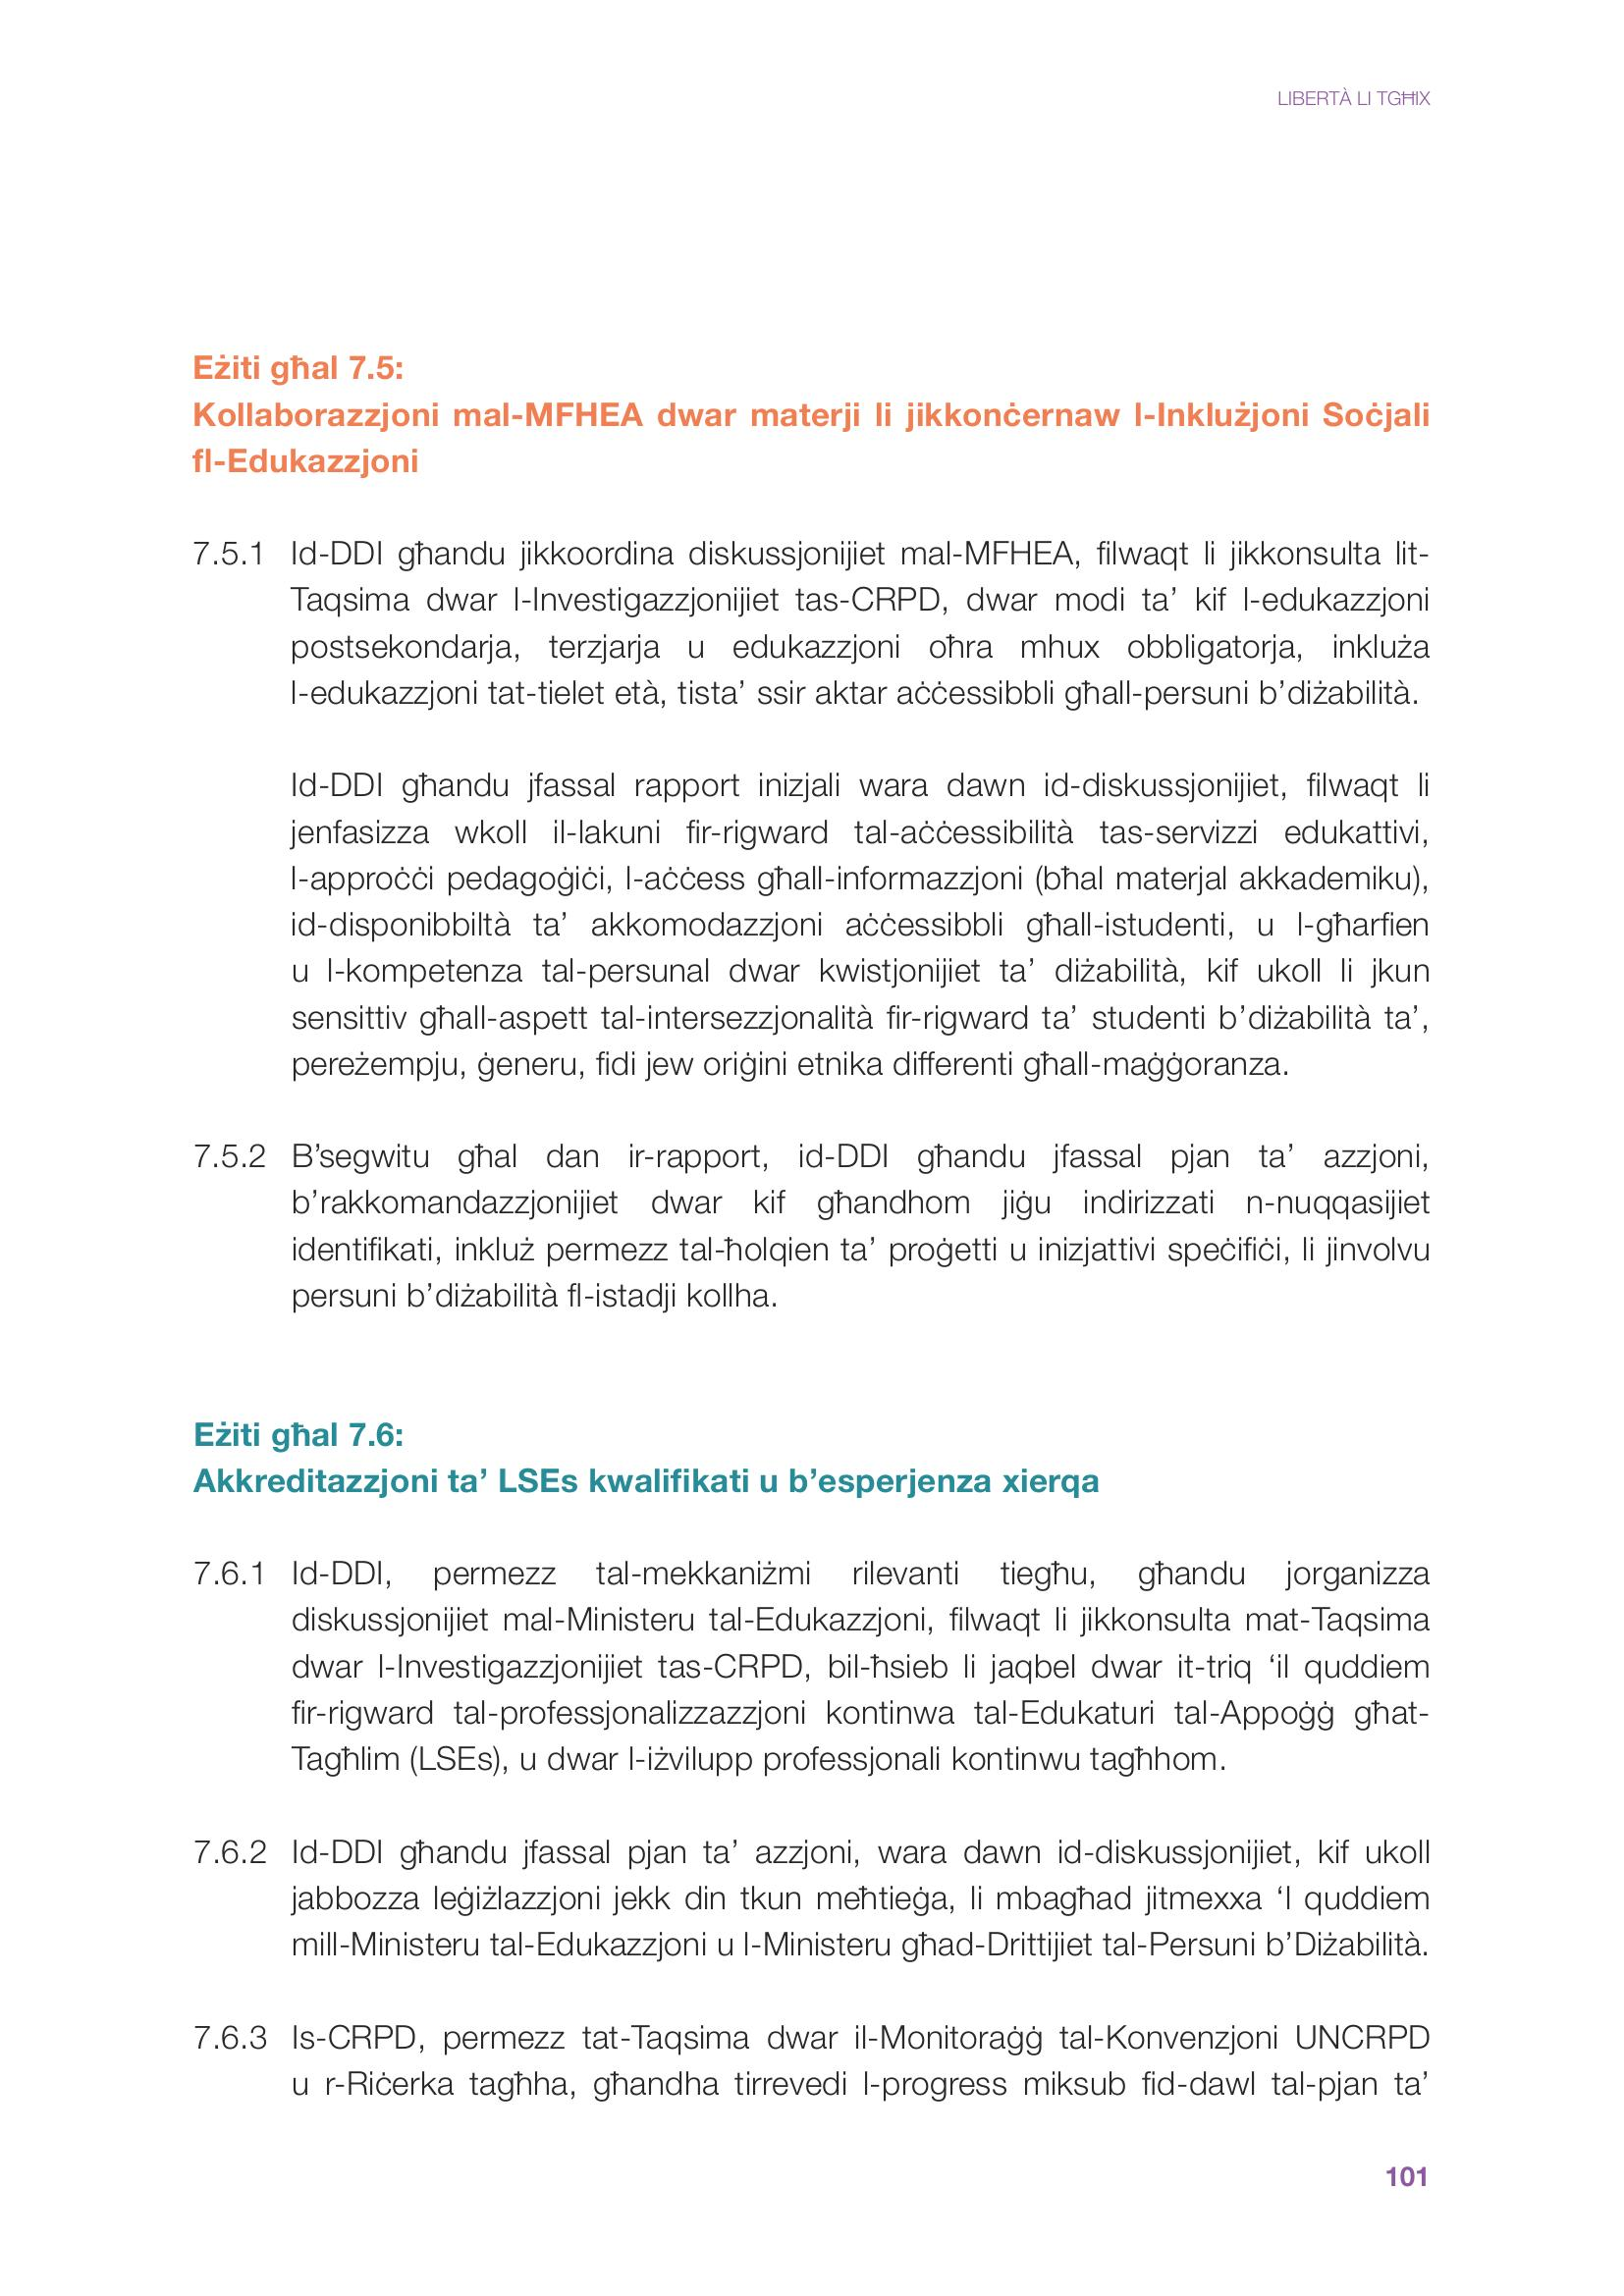text: (163, 336, 1478, 2134)
